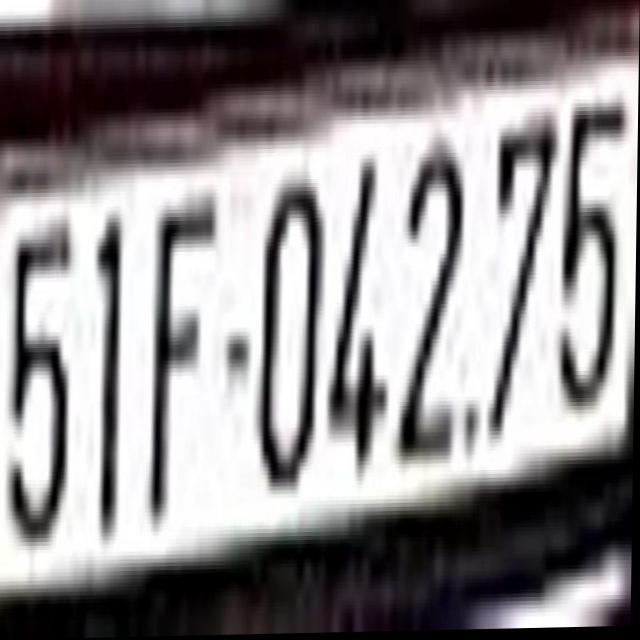0: (258, 157, 323, 492)
1: (91, 234, 131, 549)
2: (395, 143, 469, 466)
4: (331, 164, 385, 483)
5: (7, 216, 71, 559), (563, 94, 628, 409)
7: (484, 110, 558, 445)
F: (149, 193, 229, 537)
